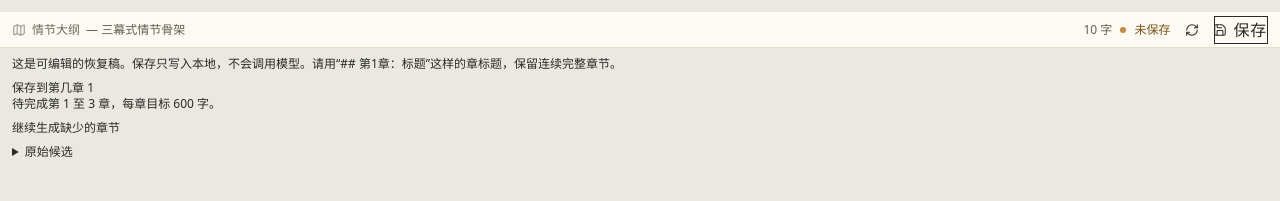
planning recovery editors › reports a rejected recovery refresh from button
The width and height of the screenshot is (1280, 201).
Click the button titled "从磁盘重新加载（AI 生成完成后可点击刷新）" at (1192, 30), box [1178,16,1206,44]
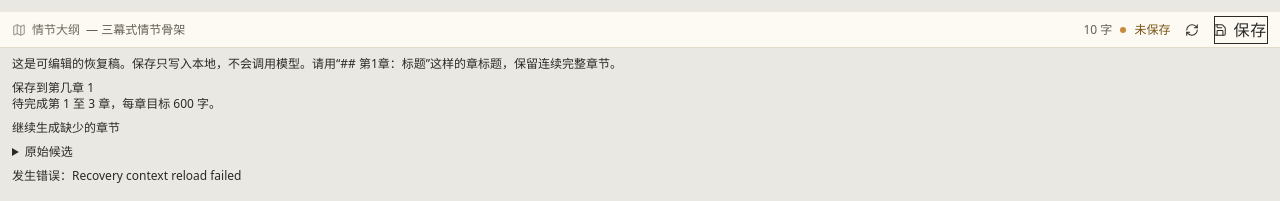
Result: the message "发生错误：Recovery context reload failed" is shown at [12,167,242,184]
